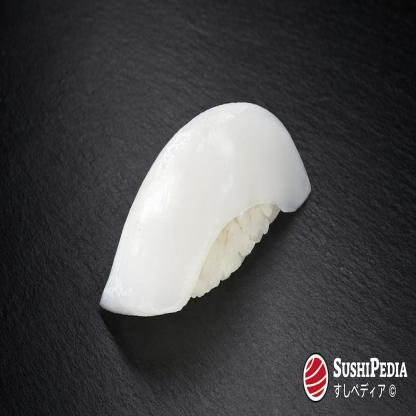ika: (93, 87, 318, 331)
